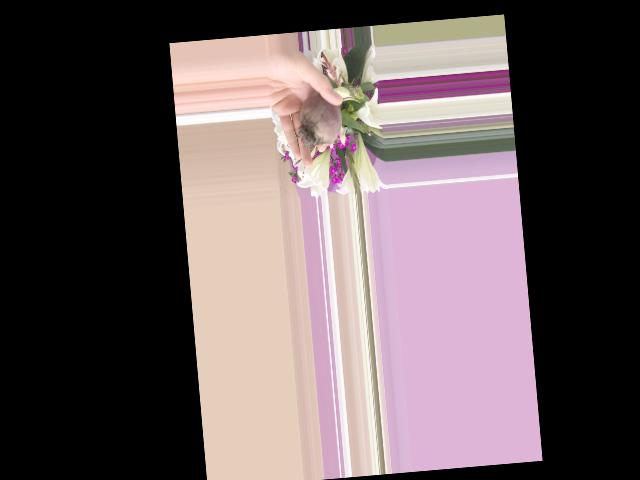beet: (296, 89, 364, 149)
